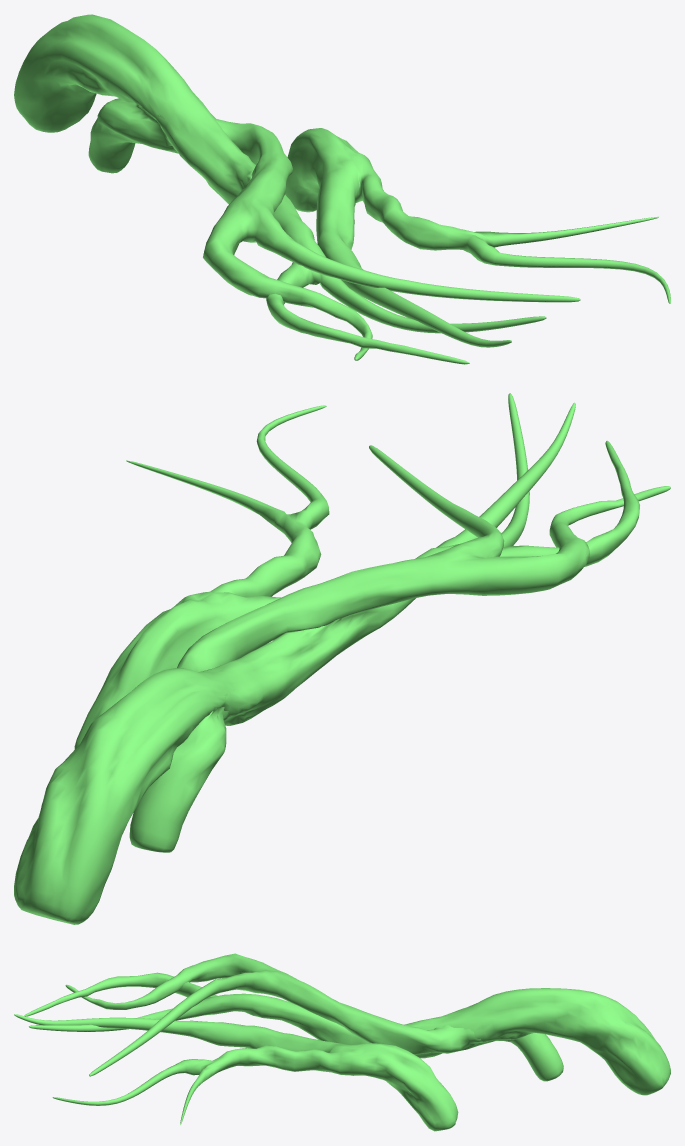
File: branch03.fbx
3 renders of one model, top to bottom at view 1: azimuth 30°, elevation 25°; view 2: azimuth 150°, elevation 25°; view 3: azimuth 270°, elevation 25°, orthographic. The views are drawn at different scales.
Visible parts, largest first — view 1: branch10; view 2: branch10; view 3: branch10.
Part boxes in pixels (x1,y1,x2,y2): branch10: (14,14,670,364); branch10: (14,393,670,924); branch10: (14,953,670,1131).
Size of the model in its own units: 1.33 by 0.4553 by 2.62.
